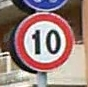limite 10: (11, 11, 73, 71)
